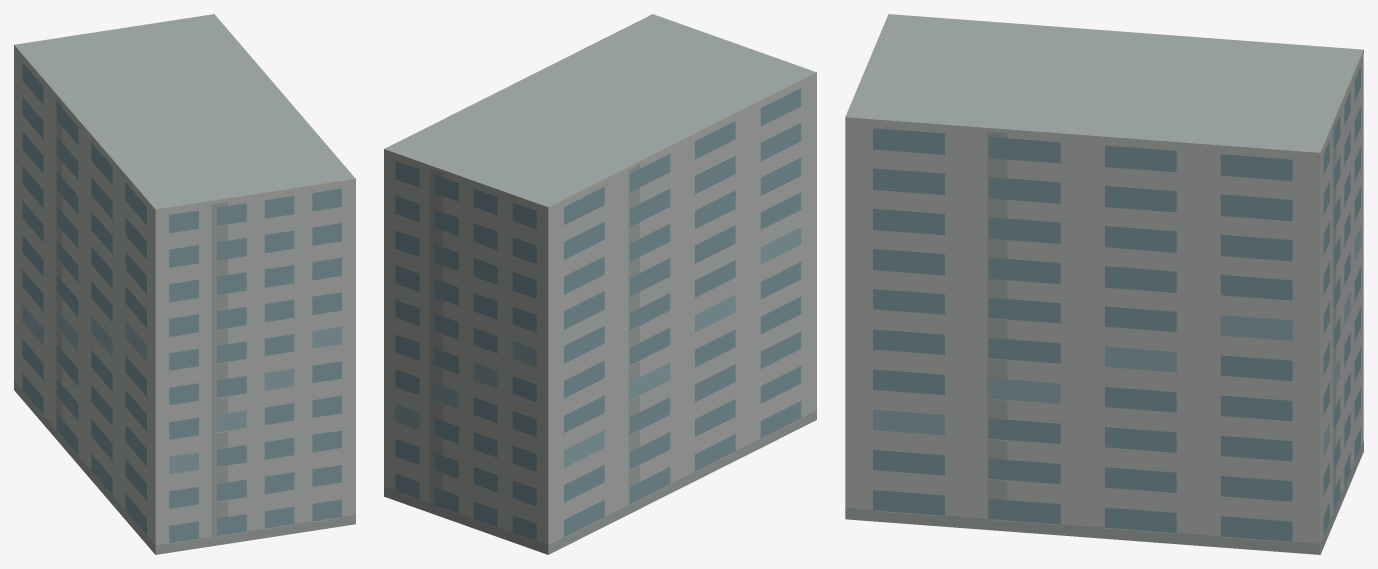
Rendered from residential-86921214-9d9f-4296-981d-a71411287f66.glb.
3 views of the same model, side by side, from view 1: azimuth 30°, elevation 25°; view 2: azimuth 150°, elevation 25°; view 3: azimuth 270°, elevation 25° (orthographic). The views are drawn at different scales.
Visible parts, largest first — view 1: residential-86921214-9d9f-4296-981d-a71411287f66.tmp; view 2: residential-86921214-9d9f-4296-981d-a71411287f66.tmp; view 3: residential-86921214-9d9f-4296-981d-a71411287f66.tmp.
Part boxes in pixels (bbox=[...]): residential-86921214-9d9f-4296-981d-a71411287f66.tmp: bbox=[14, 14, 355, 554]; residential-86921214-9d9f-4296-981d-a71411287f66.tmp: bbox=[384, 14, 816, 554]; residential-86921214-9d9f-4296-981d-a71411287f66.tmp: bbox=[845, 14, 1363, 554].
Size of the model in its own units: 19.27 by 26 by 30.4.
